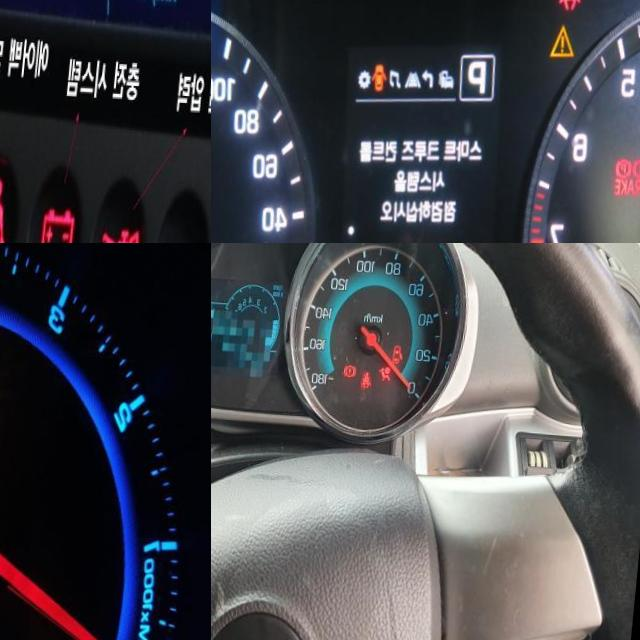Central Warning lamp: (552, 17, 581, 54)
Doors: (374, 57, 393, 88), (398, 340, 410, 359)
